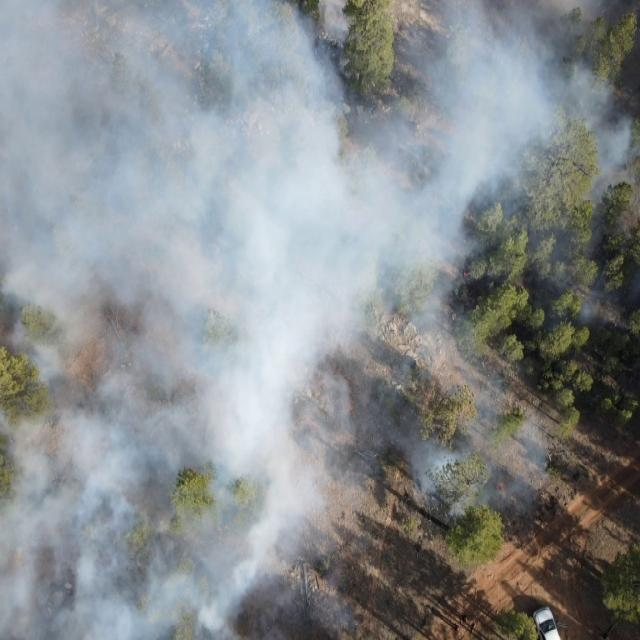fire: (460, 270, 471, 280)
smoke: (1, 0, 355, 640), (354, 0, 640, 371), (355, 371, 553, 522)
